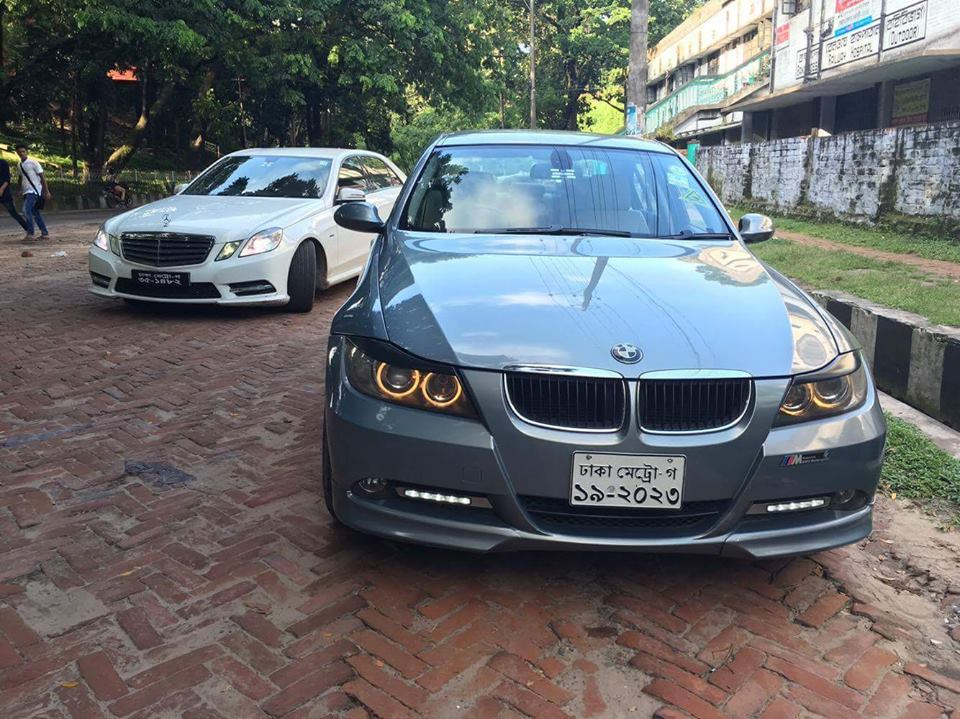registration_plate: (570, 449, 687, 510), (131, 268, 191, 287)
